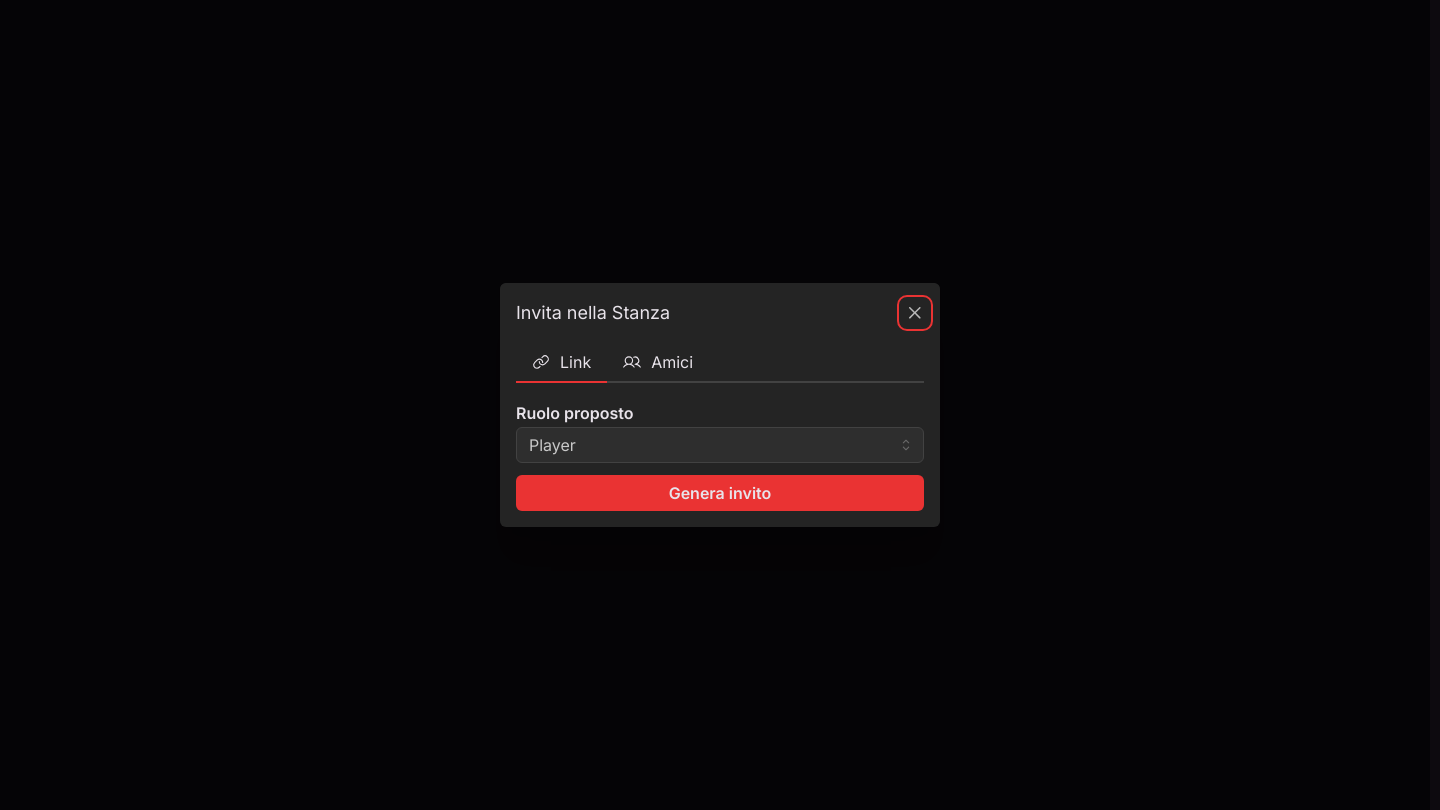
Test: InviteModal › reports a failure
The width and height of the screenshot is (1440, 810).
Click the button "Genera invito": (720, 493) [516, 475, 924, 511]
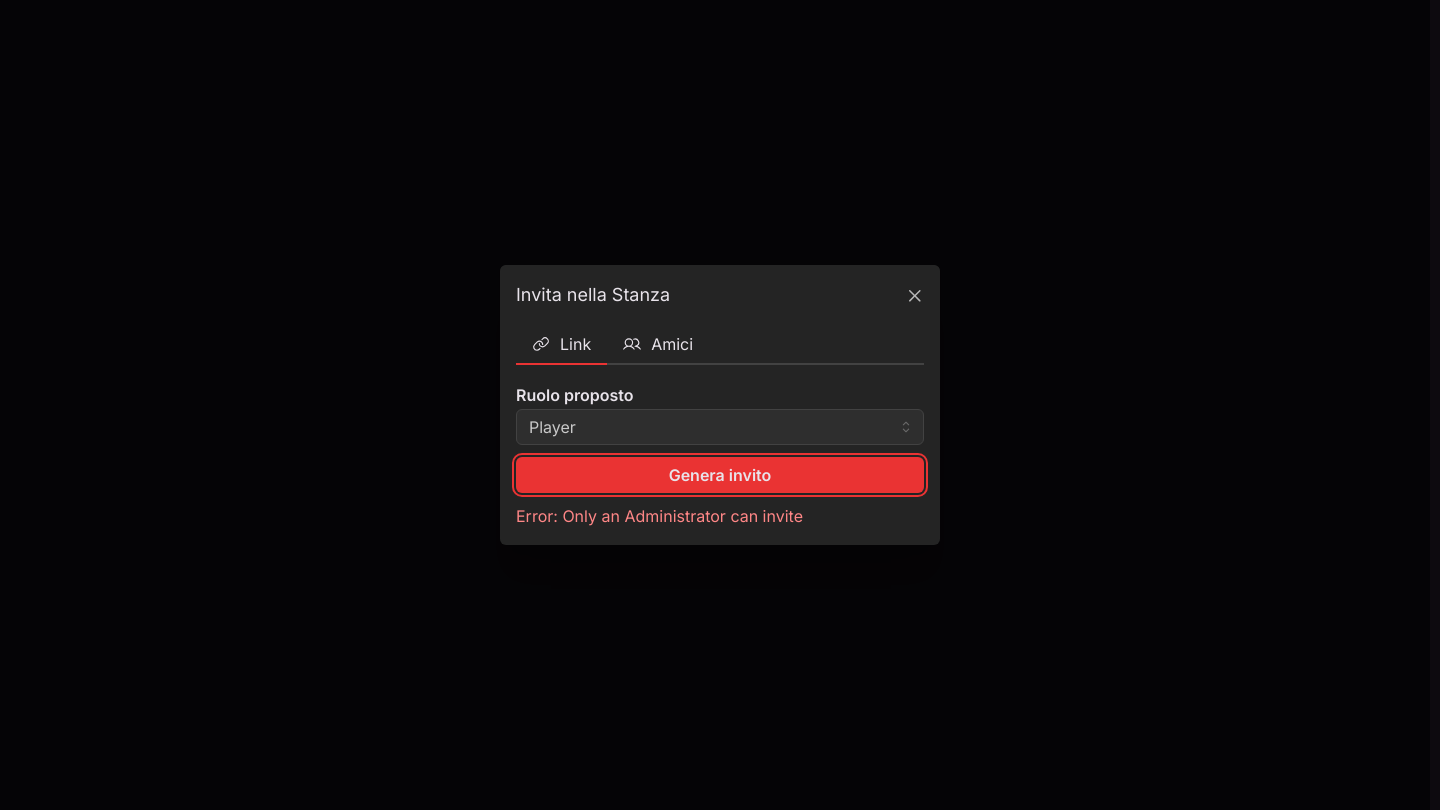
Check: the text "Error: Only an Administrator can invite" is shown, box [516, 506, 803, 526]
